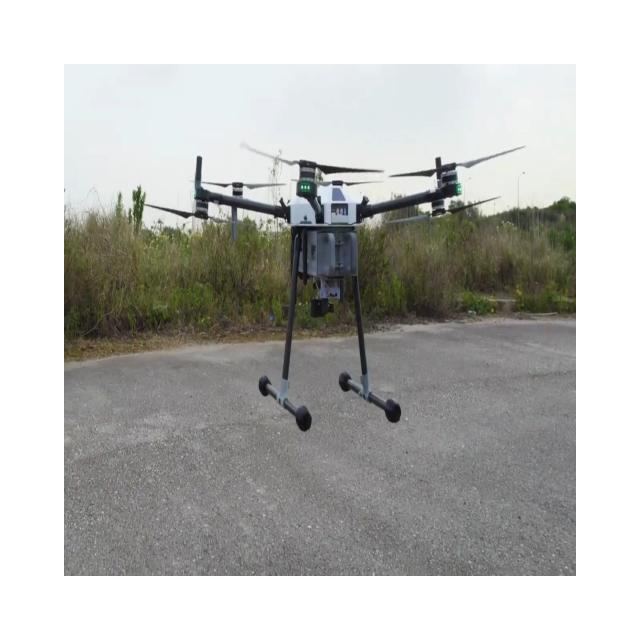drone: (142, 141, 526, 431)
